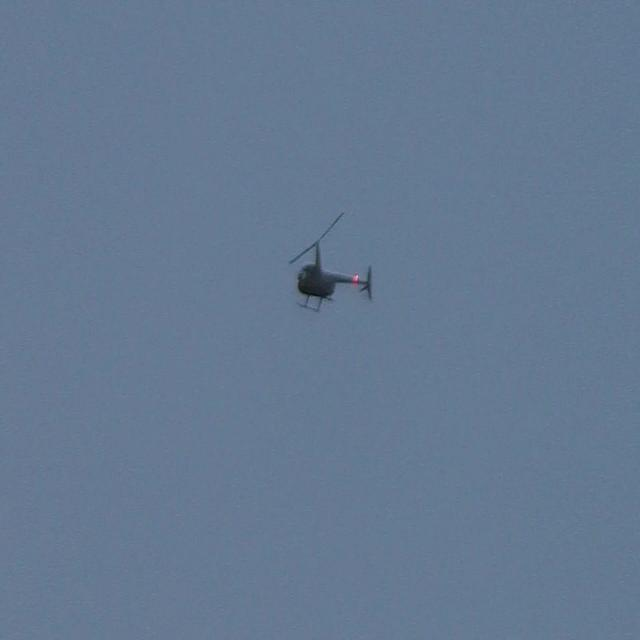CIV_HELO: (296, 240, 372, 313)
